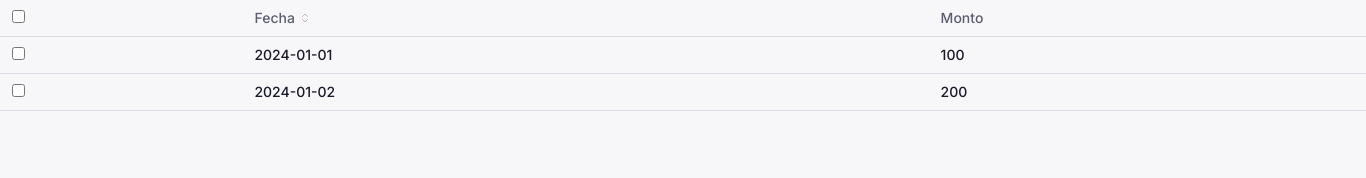
DataTable › announces the selected count
The width and height of the screenshot is (1366, 178).
Step 1. Click the checkbox named "Seleccionar fila 1" → (18, 54), box x1=12 y1=47 x2=25 y2=60
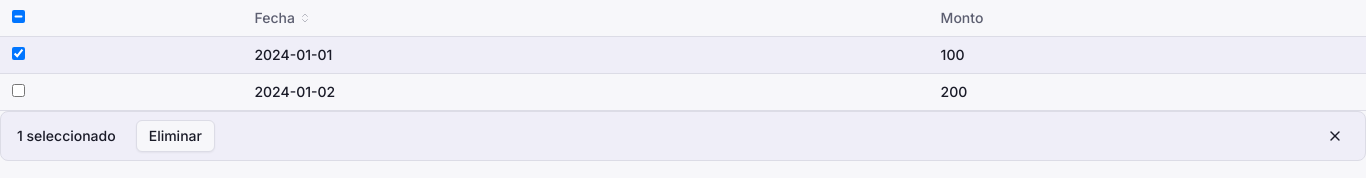
Result: the message shows "1 seleccionado" at x1=17 y1=127 x2=116 y2=144
